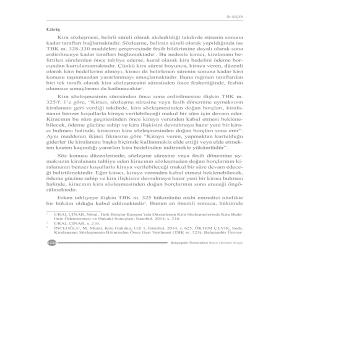footer: (52, 211, 245, 236)
header: (222, 13, 244, 20)
